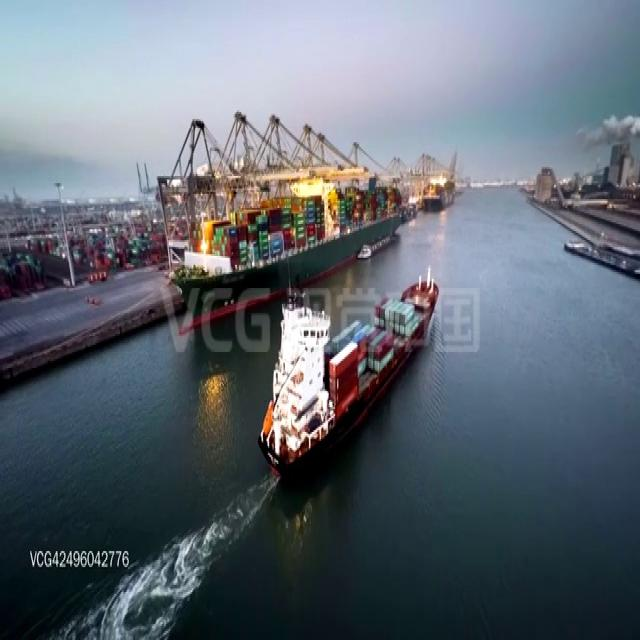cargoship: (269, 276, 449, 466), (152, 195, 419, 302)
